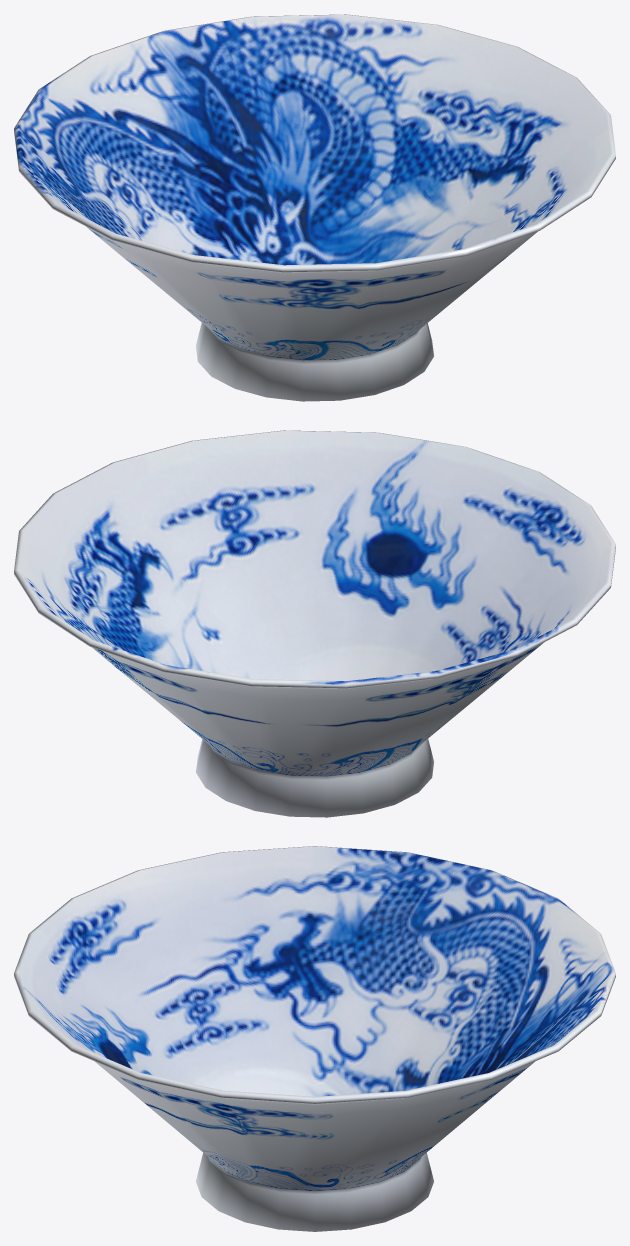
File: wan03_02.FBX
3 views of the same model, one above another, from view 1: azimuth 30°, elevation 25°; view 2: azimuth 150°, elevation 25°; view 3: azimuth 270°, elevation 25° (orthographic).
Parts seen in each view (by area): view 1: pCylinder003; view 2: pCylinder003; view 3: pCylinder003.
Boxes of the visible parts, x1=… form: pCylinder003: x1=14, y1=14, x2=615, y2=401; pCylinder003: x1=14, y1=430, x2=615, y2=817; pCylinder003: x1=14, y1=846, x2=615, y2=1231.
Bounding box in the file's own units: 124 × 47.87 × 124.
